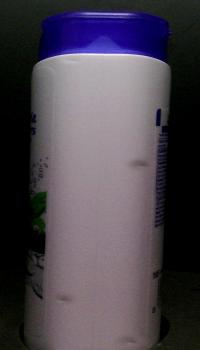dent_marginal: (122, 149, 159, 179), (46, 290, 82, 310), (109, 334, 145, 350), (50, 55, 96, 66)
